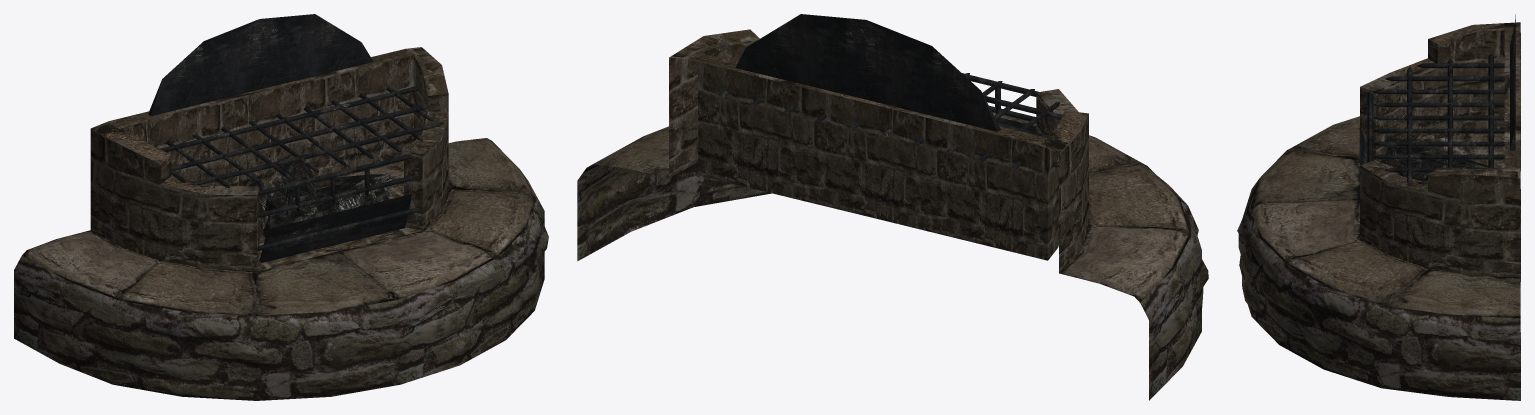
File: G3_Object_Fireplace_03.obj
The picture shows the model from 3 angles, left to right: view 1: azimuth 30°, elevation 25°; view 2: azimuth 150°, elevation 25°; view 3: azimuth 270°, elevation 25°; orthographic projection. The views are drawn at different scales.
Visible parts, largest first — view 1: G3_Object_Fireplace_03_2, G3_Object_Fireplace_03_0, G3_Object_Fireplace_03_1, G3_Object_Fireplace_03_4, G3_Object_Fireplace_03_3; view 2: G3_Object_Fireplace_03_0, G3_Object_Fireplace_03_4, G3_Object_Fireplace_03_2, G3_Object_Fireplace_03_1; view 3: G3_Object_Fireplace_03_0, G3_Object_Fireplace_03_2, G3_Object_Fireplace_03_1, G3_Object_Fireplace_03_4, G3_Object_Fireplace_03_3.
Part boxes in pixels (<box>): G3_Object_Fireplace_03_2: <box>14,170,548,400</box>; G3_Object_Fireplace_03_0: <box>90,47,448,271</box>; G3_Object_Fireplace_03_1: <box>22,138,535,315</box>; G3_Object_Fireplace_03_4: <box>148,14,443,262</box>; G3_Object_Fireplace_03_3: <box>247,161,392,240</box>; G3_Object_Fireplace_03_0: <box>669,29,1088,272</box>; G3_Object_Fireplace_03_4: <box>719,14,1062,170</box>; G3_Object_Fireplace_03_2: <box>577,162,1208,400</box>; G3_Object_Fireplace_03_1: <box>593,112,1191,302</box>; G3_Object_Fireplace_03_0: <box>1360,22,1520,277</box>; G3_Object_Fireplace_03_2: <box>1237,121,1520,400</box>; G3_Object_Fireplace_03_1: <box>1250,116,1520,318</box>; G3_Object_Fireplace_03_4: <box>1359,14,1515,195</box>; G3_Object_Fireplace_03_3: <box>1379,135,1488,180</box>.
Size of the model in its own units: 3.62 by 1.85 by 1.88.
